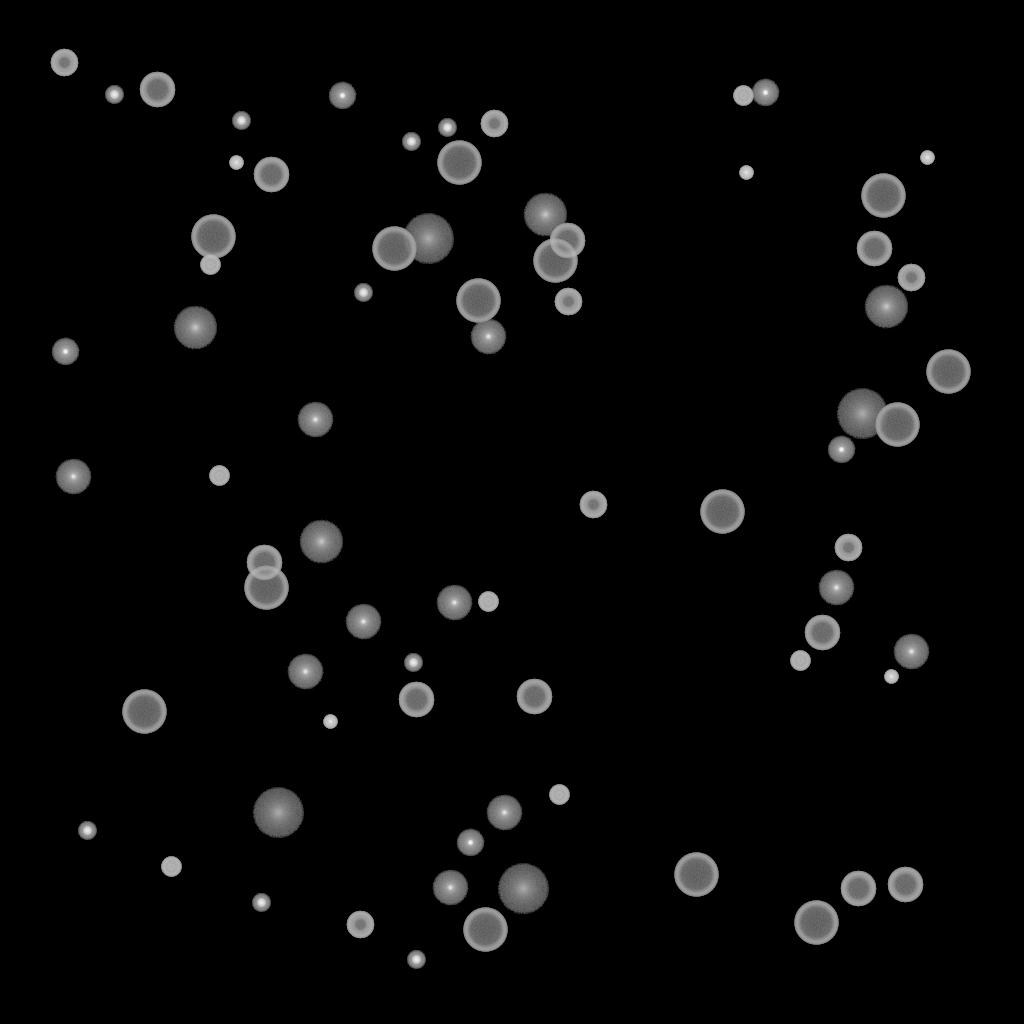depth:-10: (328, 82, 356, 110), (751, 79, 779, 107), (456, 829, 484, 857), (827, 436, 855, 464), (51, 338, 79, 366)
depth:-20: (402, 133, 420, 151), (407, 951, 425, 969), (252, 894, 270, 912), (404, 654, 422, 672), (354, 284, 372, 302), (105, 86, 123, 104), (78, 822, 96, 840), (438, 119, 456, 137), (232, 112, 250, 130)
depth:-30: (323, 715, 337, 729), (920, 151, 934, 165), (884, 670, 898, 684), (739, 166, 753, 180), (229, 156, 243, 170)
depth:-40: (478, 592, 498, 612), (200, 255, 220, 275), (161, 857, 181, 877), (790, 651, 810, 671), (733, 86, 753, 106), (209, 466, 229, 486), (549, 785, 569, 805)
depth:-50: (480, 110, 508, 138), (554, 288, 582, 316), (897, 264, 925, 292), (834, 534, 862, 562), (579, 491, 607, 519), (346, 911, 374, 939), (50, 49, 78, 77)
depth:-60: (398, 682, 434, 718), (139, 72, 175, 108), (840, 871, 876, 907), (887, 867, 923, 903), (253, 157, 289, 193), (516, 679, 552, 715), (246, 545, 282, 581), (804, 615, 840, 651), (856, 231, 892, 267), (549, 223, 585, 259)
depth:-70: (700, 490, 744, 534), (794, 901, 838, 945), (437, 141, 481, 185), (456, 279, 500, 323), (122, 690, 166, 734), (861, 174, 905, 218), (244, 566, 288, 610), (533, 239, 577, 283), (674, 853, 718, 897), (875, 403, 919, 447), (372, 227, 416, 271), (191, 215, 235, 259), (463, 908, 507, 952), (926, 350, 970, 394)
depth:0: (436, 585, 472, 621), (893, 634, 929, 670), (287, 654, 323, 690), (470, 319, 506, 355), (818, 570, 854, 606), (345, 604, 381, 640), (432, 870, 468, 906), (297, 402, 333, 438), (55, 459, 91, 495), (486, 795, 522, 831)
depth:10: (864, 285, 908, 329), (299, 520, 343, 564), (523, 193, 567, 237), (173, 306, 217, 350)
depth:20: (252, 788, 304, 838), (402, 214, 454, 264), (497, 864, 549, 914), (836, 389, 888, 439)
